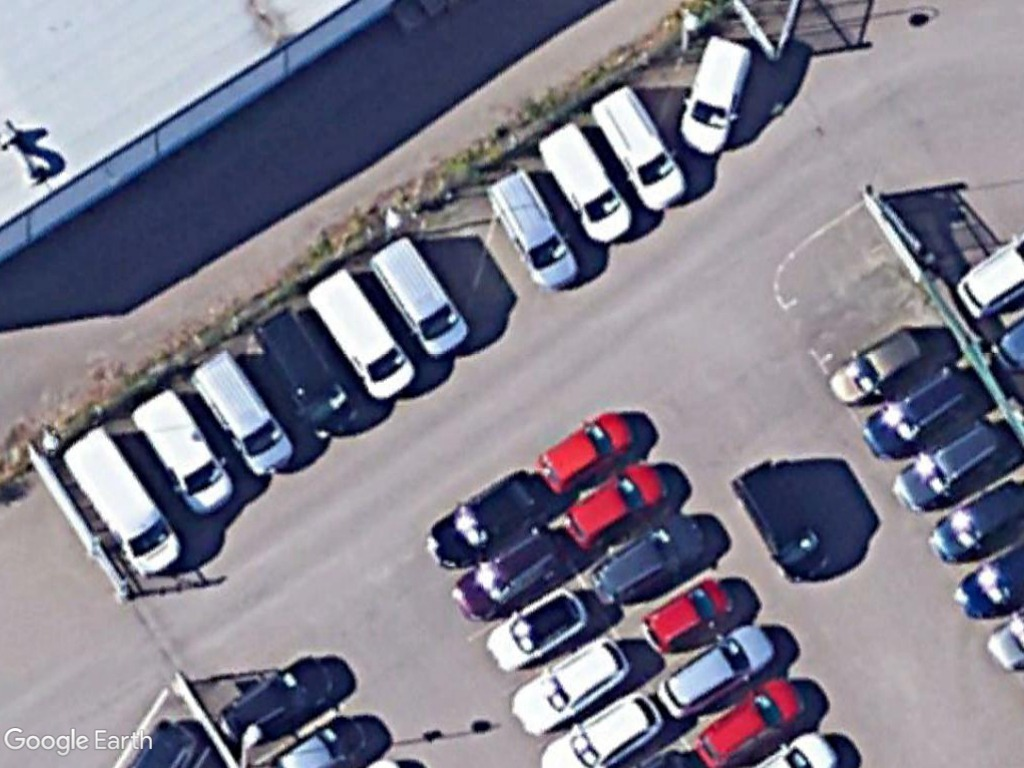car: (421, 470, 547, 580), (216, 647, 342, 750), (654, 618, 780, 721), (511, 630, 630, 739), (860, 356, 972, 465), (452, 520, 565, 625), (890, 411, 1007, 512), (558, 451, 677, 549), (586, 509, 705, 604), (694, 677, 811, 768), (532, 405, 638, 497), (483, 586, 589, 678), (539, 691, 663, 768), (827, 318, 927, 410), (635, 571, 736, 661)
van: (57, 421, 195, 587), (187, 348, 303, 481), (311, 267, 419, 405), (130, 384, 237, 517), (729, 458, 835, 586), (590, 84, 694, 212), (369, 233, 472, 361), (488, 164, 586, 297), (539, 120, 636, 247), (670, 33, 756, 155)
